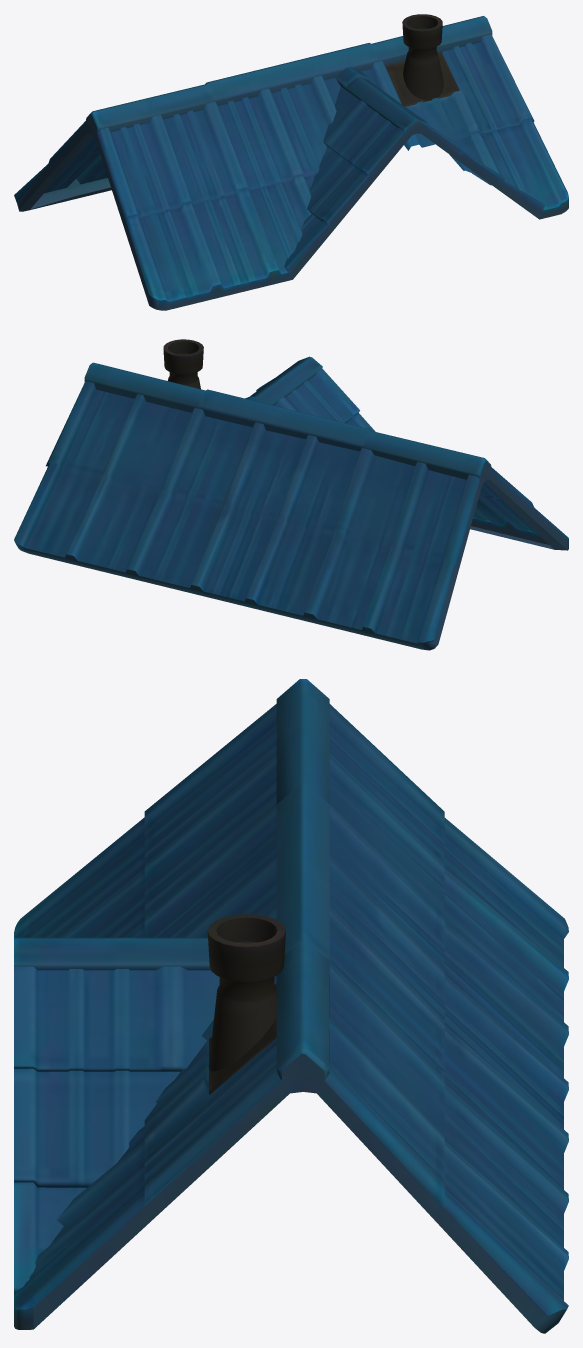
File: roof-na-metal.glb
3 renders of one model, top to bottom at view 1: azimuth 30°, elevation 25°; view 2: azimuth 150°, elevation 25°; view 3: azimuth 270°, elevation 25°, orthographic. The views are drawn at different scales.
Bounding box in the file's own units: 40 × 15.24 × 23.69.
Materials: 1 (1 with a texture image).
